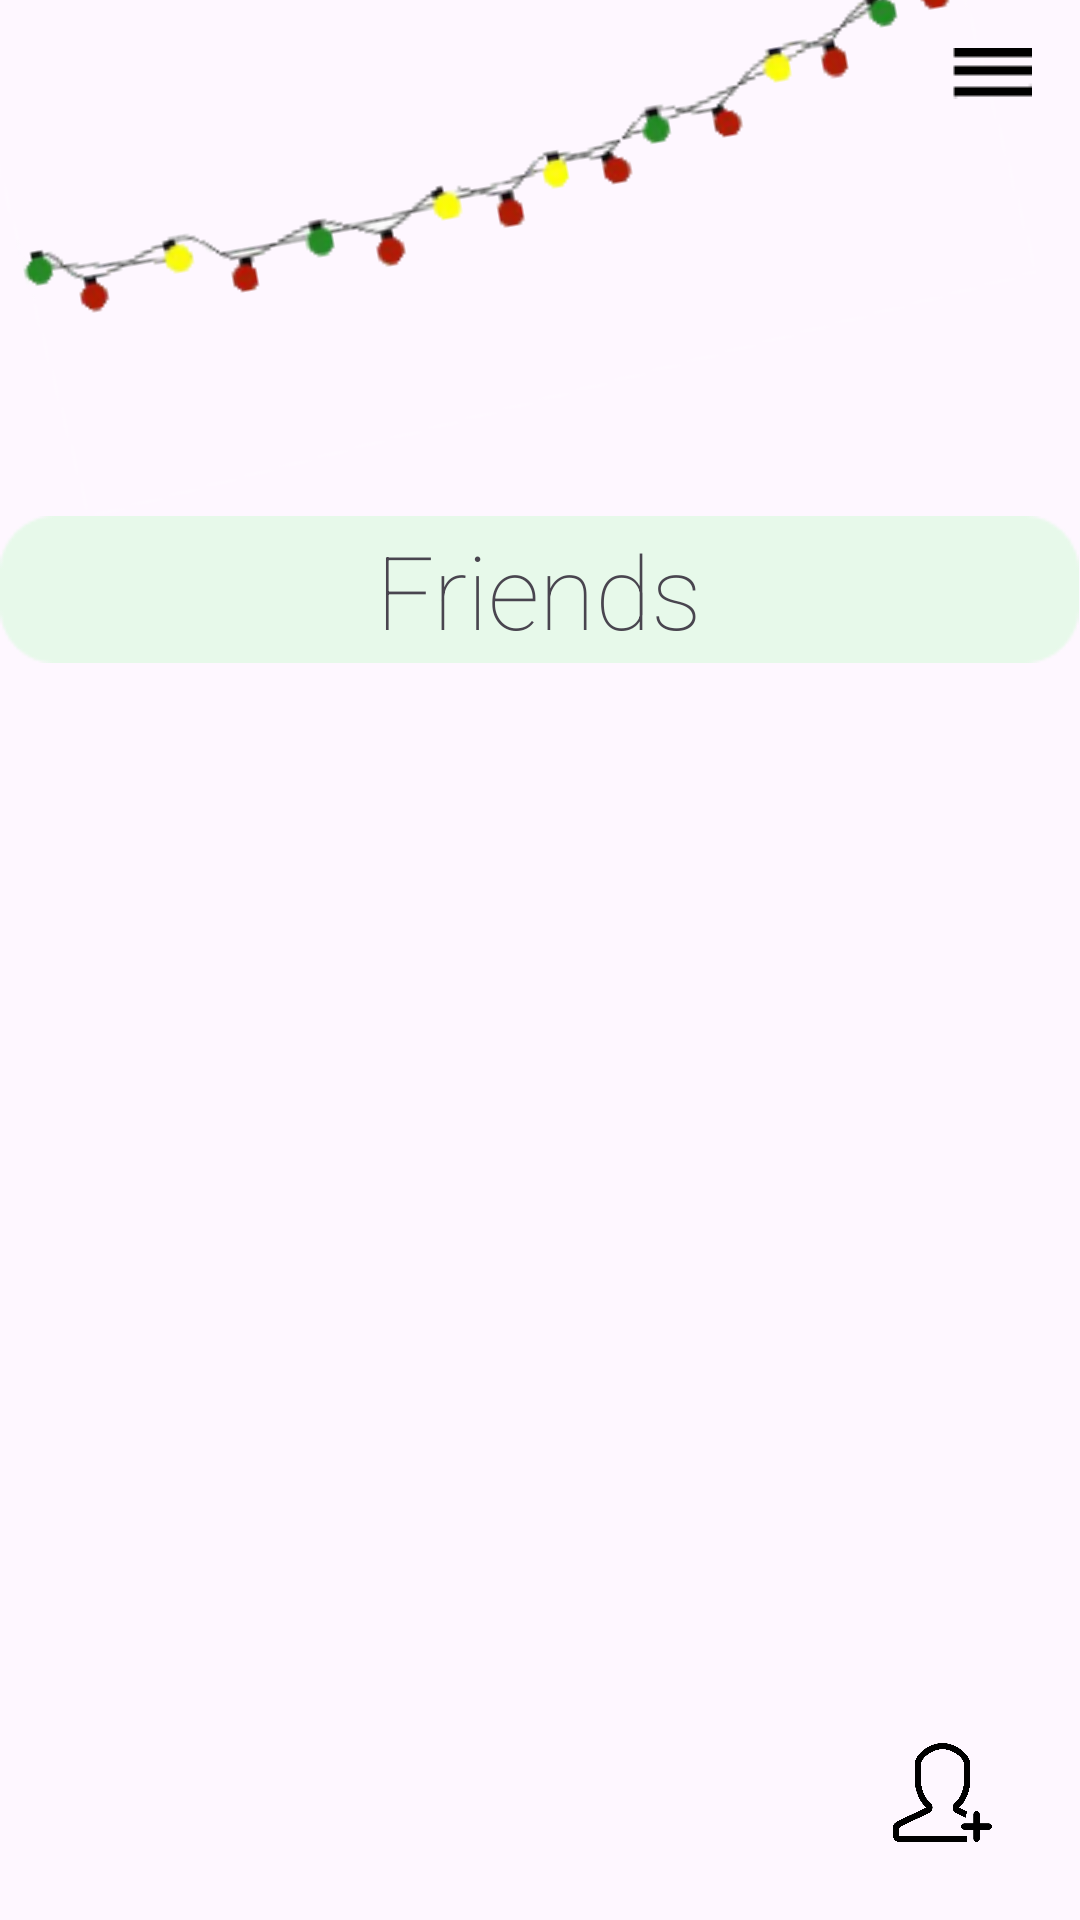

Named icons in this screenshot (1080×1920) and their bounding boxes, (x1, y1, x2, y2):
add friends: (893, 1743, 992, 1842)
